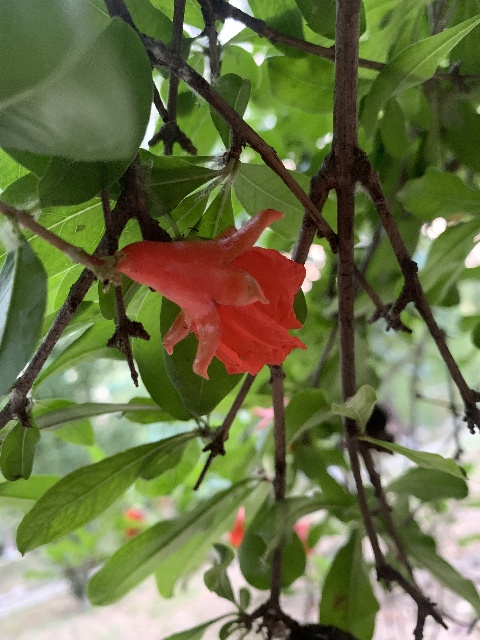flower: (117, 209, 306, 379)
